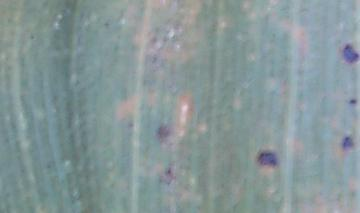tarspot: (340, 42, 359, 66), (255, 150, 278, 168), (157, 166, 177, 185), (155, 123, 173, 144), (338, 134, 356, 150), (347, 98, 357, 106), (27, 33, 38, 40), (102, 20, 111, 27)
